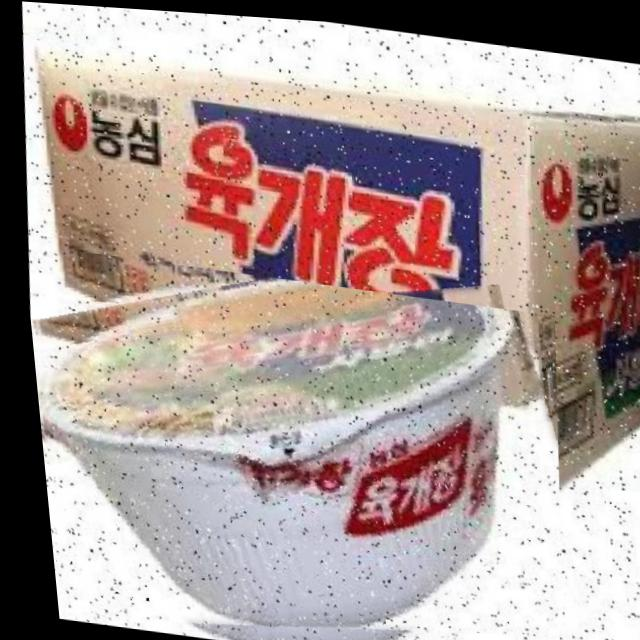Miscellaneous: (18, 243, 576, 640)
